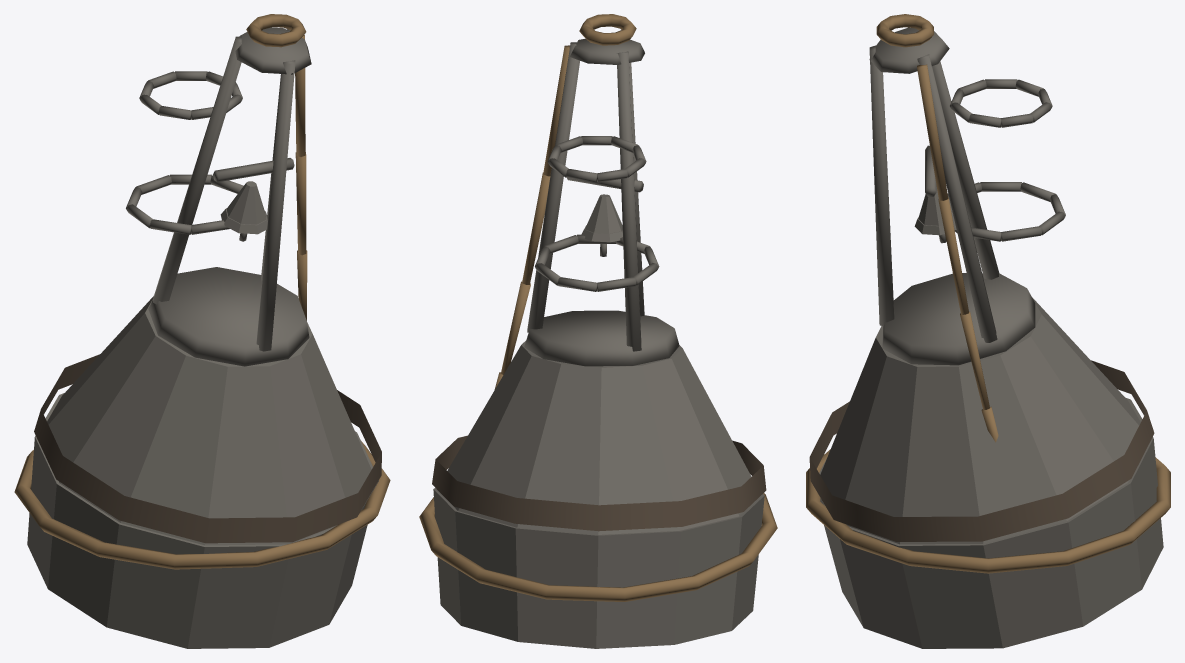
The model's file is BuoyRing.fbx.
3 renders of one model, left to right at view 1: azimuth 30°, elevation 25°; view 2: azimuth 150°, elevation 25°; view 3: azimuth 270°, elevation 25°, orthographic. The views are drawn at different scales.
Visible parts, largest first — view 1: BuoyRing; view 2: BuoyRing; view 3: BuoyRing.
Part boxes in pixels (left/top/right/bottom): BuoyRing: left=14, top=14, right=390, bottom=648; BuoyRing: left=419, top=14, right=777, bottom=648; BuoyRing: left=806, top=14, right=1170, bottom=648.
Bounding box in the file's own units: 138 × 239 × 135.
